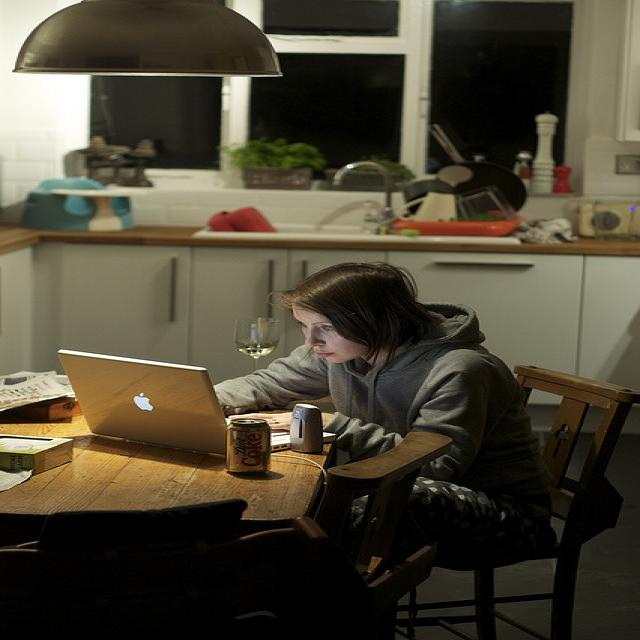chair: (396, 366, 640, 640), (35, 501, 244, 640)
dining table: (0, 415, 332, 519)
